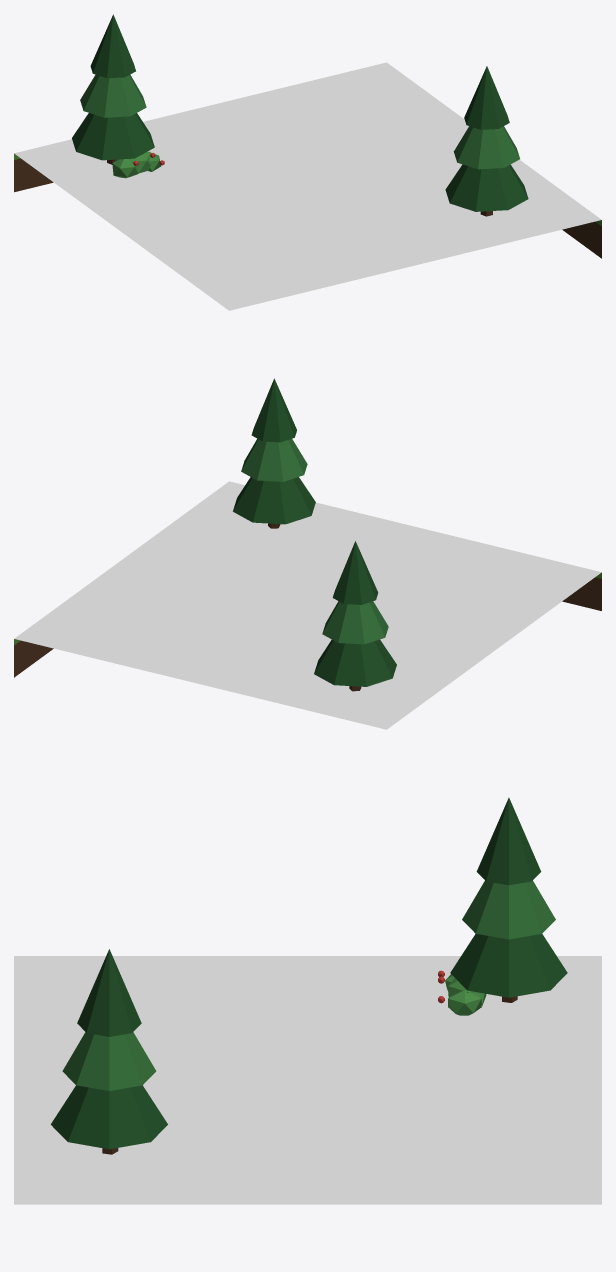
3 renders of one model, top to bottom at view 1: azimuth 30°, elevation 25°; view 2: azimuth 150°, elevation 25°; view 3: azimuth 270°, elevation 25°, orthographic. The views are drawn at different scales.
Parts seen in each view (by area): view 1: r4; view 2: r4; view 3: r4.
Boxes of the visible parts, left/top/right/bottom form: r4: left=14, top=14, right=601, bottom=310; r4: left=14, top=378, right=601, bottom=729; r4: left=14, top=797, right=601, bottom=1204.
Bounding box in the file's own units: 2 × 0.96 × 2.
